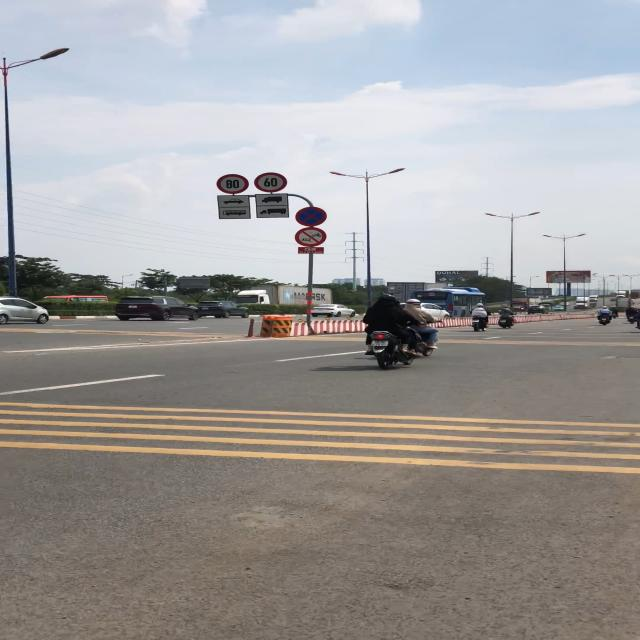Bien bao cam dung xe va do xe: (292, 205, 331, 228)
Bien bao toc do toi da cho phep: (213, 172, 250, 195), (252, 172, 290, 194)
